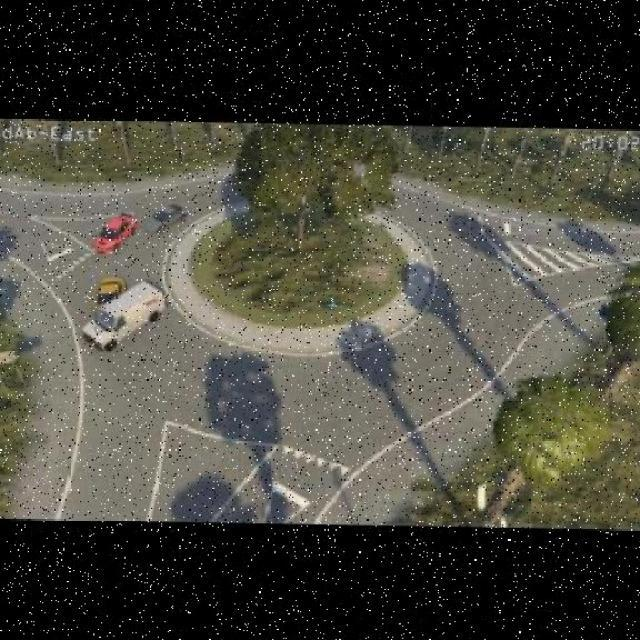accident: (73, 274, 125, 340)
